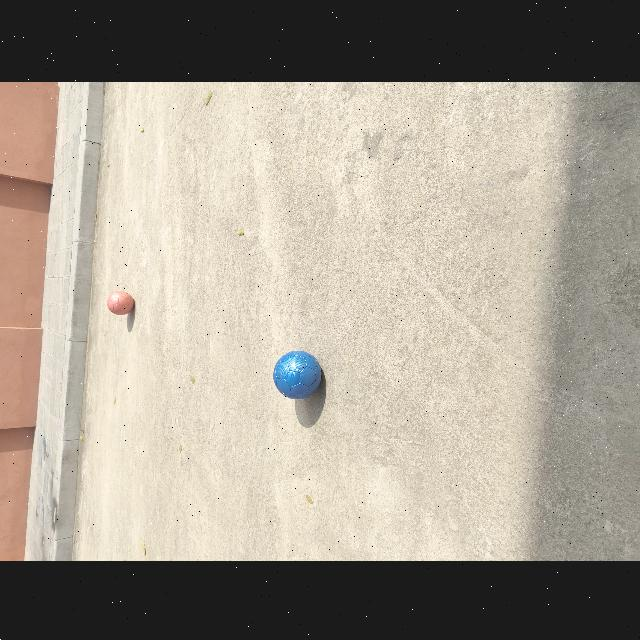B: (273, 349, 321, 398)
R: (107, 289, 134, 313)
